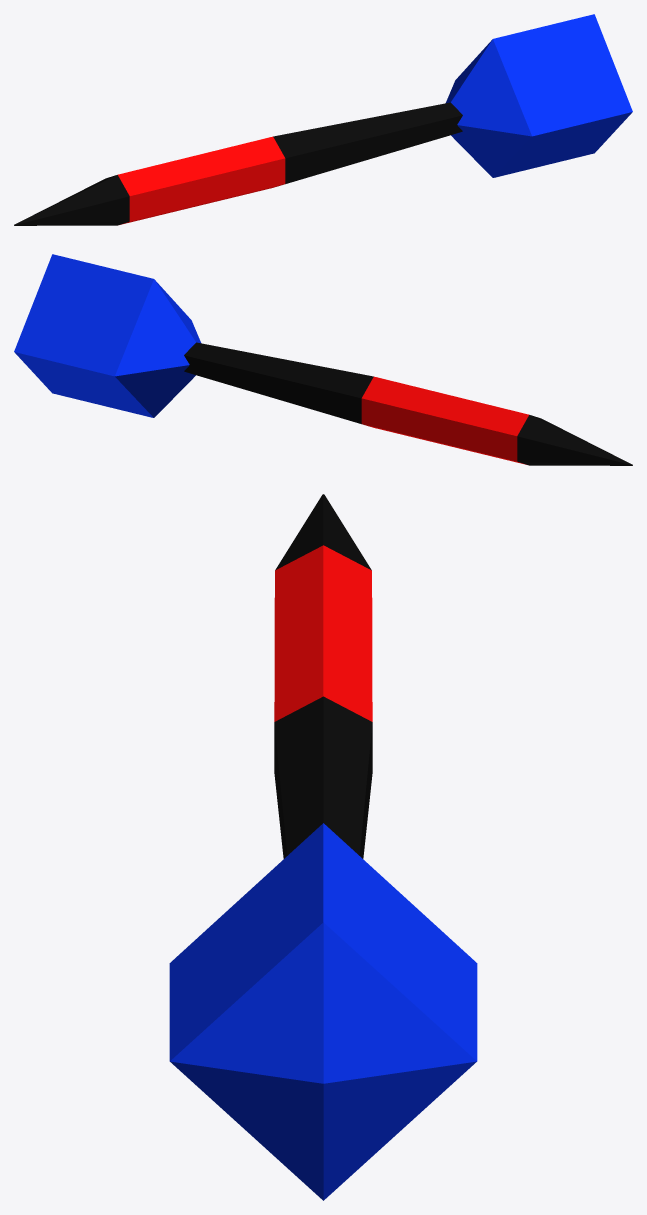
The model's file is darts_coll.FBX.
3 views of the same model, one above another, from view 1: azimuth 30°, elevation 25°; view 2: azimuth 150°, elevation 25°; view 3: azimuth 270°, elevation 25° (orthographic). The views are drawn at different scales.
Visible parts, largest first — view 1: darts_coll_1, darts_coll_2; view 2: darts_coll_1, darts_coll_2; view 3: darts_coll_1, darts_coll_2.
Part boxes in pixels (x1,y1,x2,y2): darts_coll_1: [446, 14, 632, 177]; darts_coll_2: [14, 102, 462, 225]; darts_coll_1: [14, 254, 200, 417]; darts_coll_2: [184, 342, 632, 465]; darts_coll_1: [169, 823, 477, 1200]; darts_coll_2: [274, 494, 372, 858].
Bounding box in the file's own units: 115 × 25.4 × 25.4.
